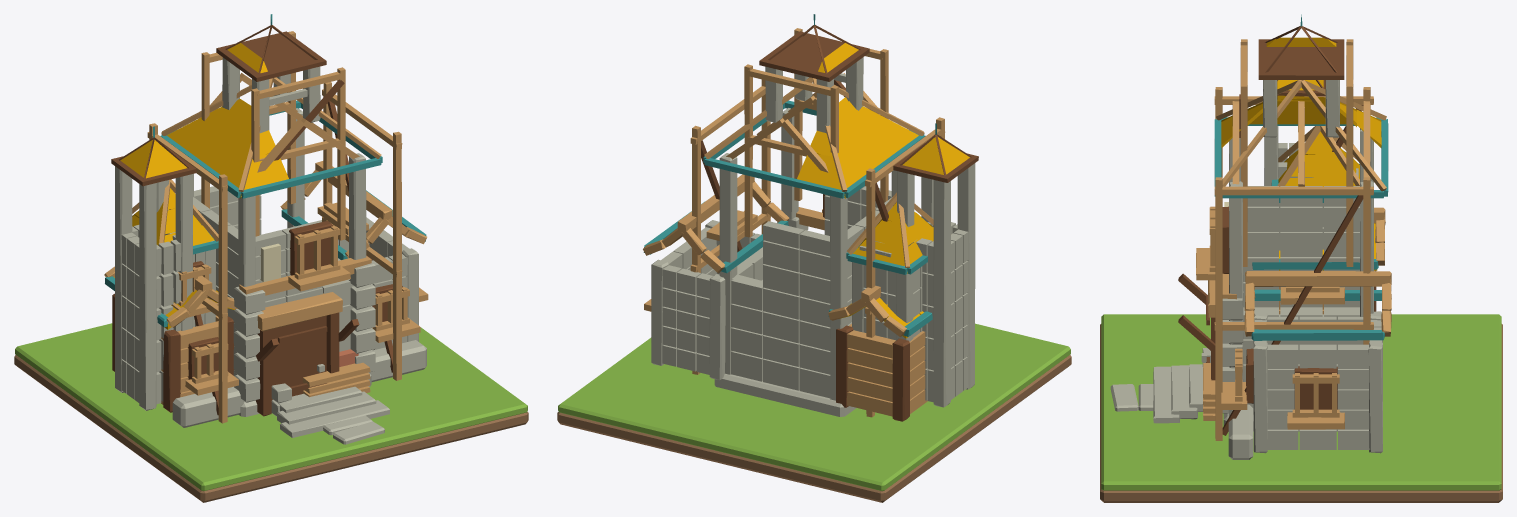
File: town_hall_l07_construction_LOD1.glb
3 renders of one model, left to right at view 1: azimuth 30°, elevation 25°; view 2: azimuth 150°, elevation 25°; view 3: azimuth 270°, elevation 25°, orthographic. The views are drawn at different scales.
Visible parts, largest first — view 1: town_hall_l07_construction_foundation.001, town_hall_l07_construction_grass_tile.001, town_hall_l07_construction_earth_tile.001, town_hall_l07_construction_path_stone.005; view 2: town_hall_l07_construction_foundation.001, town_hall_l07_construction_grass_tile.001, town_hall_l07_construction_earth_tile.001; view 3: town_hall_l07_construction_foundation.001, town_hall_l07_construction_grass_tile.001, town_hall_l07_construction_earth_tile.001, town_hall_l07_construction_path_stone.005.
Boxes of the visible parts, x1,y1,x2,y2 form: town_hall_l07_construction_foundation.001: [104, 14, 428, 437]; town_hall_l07_construction_grass_tile.001: [15, 323, 527, 491]; town_hall_l07_construction_earth_tile.001: [14, 355, 528, 502]; town_hall_l07_construction_path_stone.005: [333, 421, 384, 444]; town_hall_l07_construction_foundation.001: [643, 14, 978, 421]; town_hall_l07_construction_grass_tile.001: [558, 323, 1070, 491]; town_hall_l07_construction_earth_tile.001: [557, 355, 1071, 502]; town_hall_l07_construction_foundation.001: [1153, 14, 1391, 459]; town_hall_l07_construction_grass_tile.001: [1101, 314, 1501, 490]; town_hall_l07_construction_earth_tile.001: [1100, 324, 1502, 502]; town_hall_l07_construction_path_stone.005: [1110, 384, 1138, 411].
Size of the model in its own units: 3.6 by 4 by 3.6.
